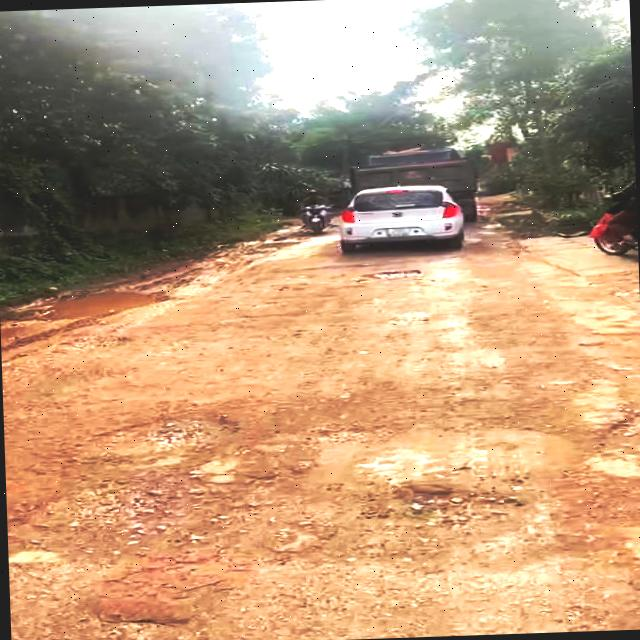pothole: (10, 476, 204, 558), (350, 484, 540, 561), (590, 398, 640, 630), (79, 407, 252, 462), (31, 286, 176, 321), (358, 268, 425, 280)
